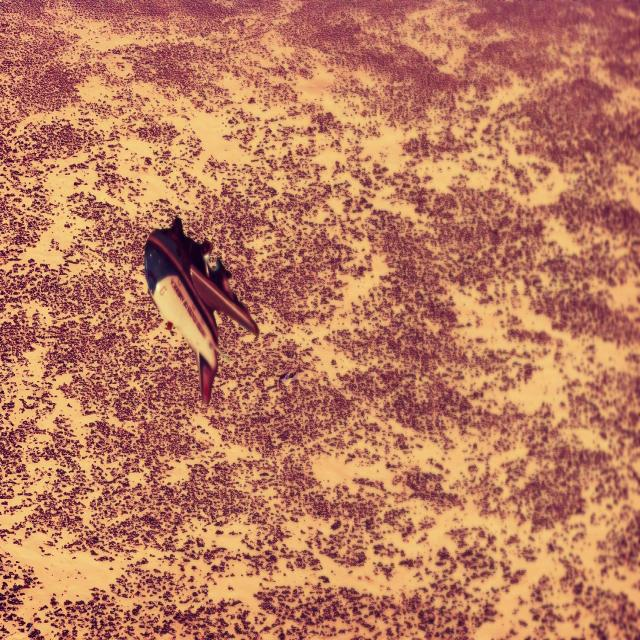airplane: (143, 216, 260, 406)
